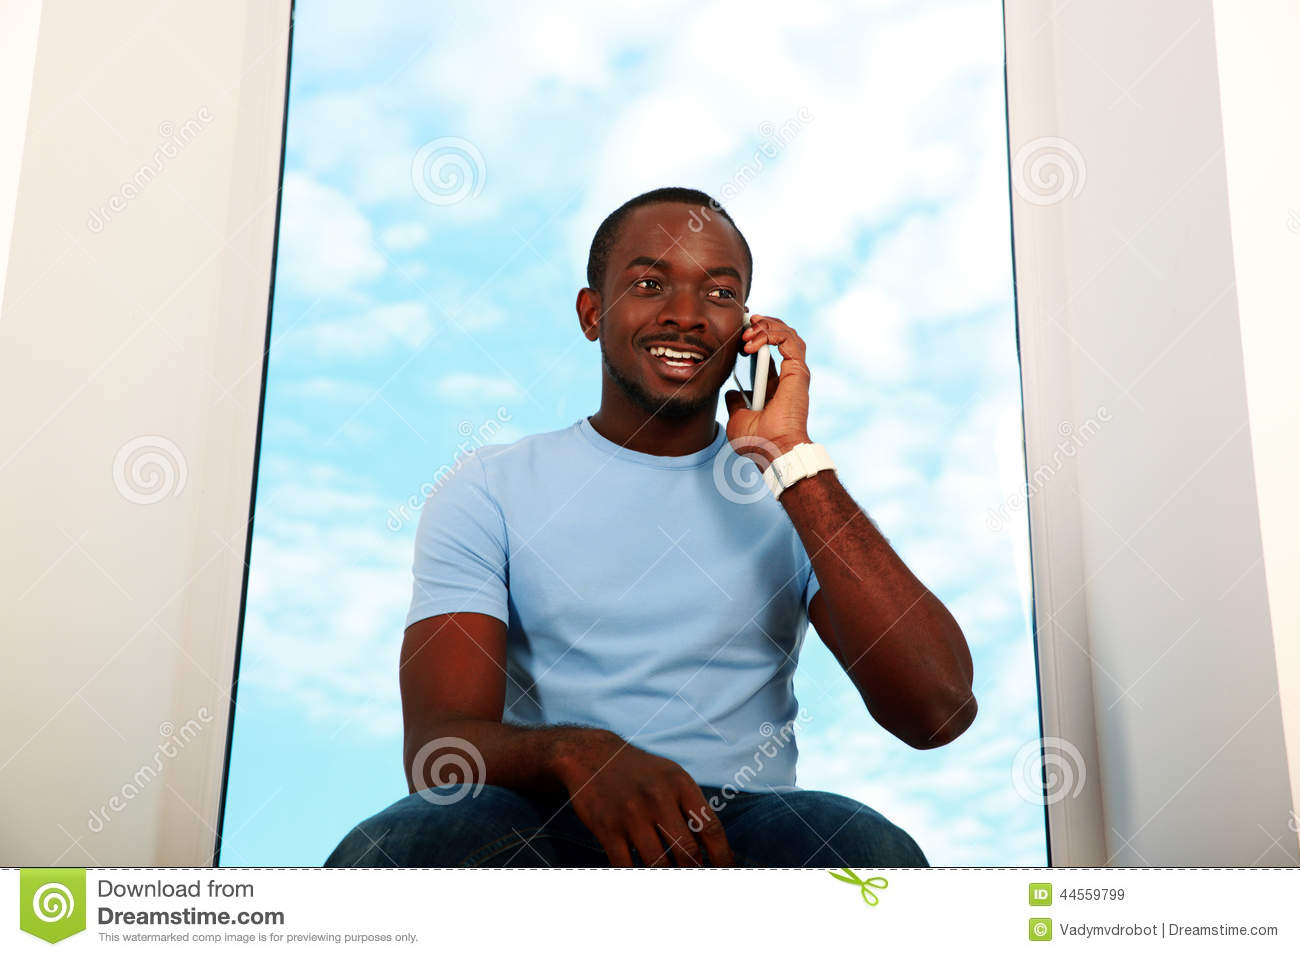phone: (734, 309, 777, 415)
talk: (612, 255, 811, 465)
